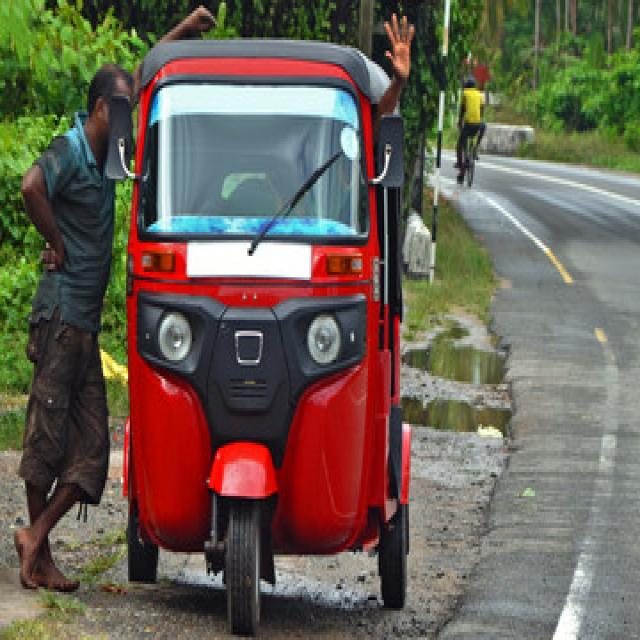bicycle: (464, 136, 475, 187)
person: (14, 8, 208, 592), (457, 75, 484, 184)
three wheeler: (107, 40, 409, 635)
